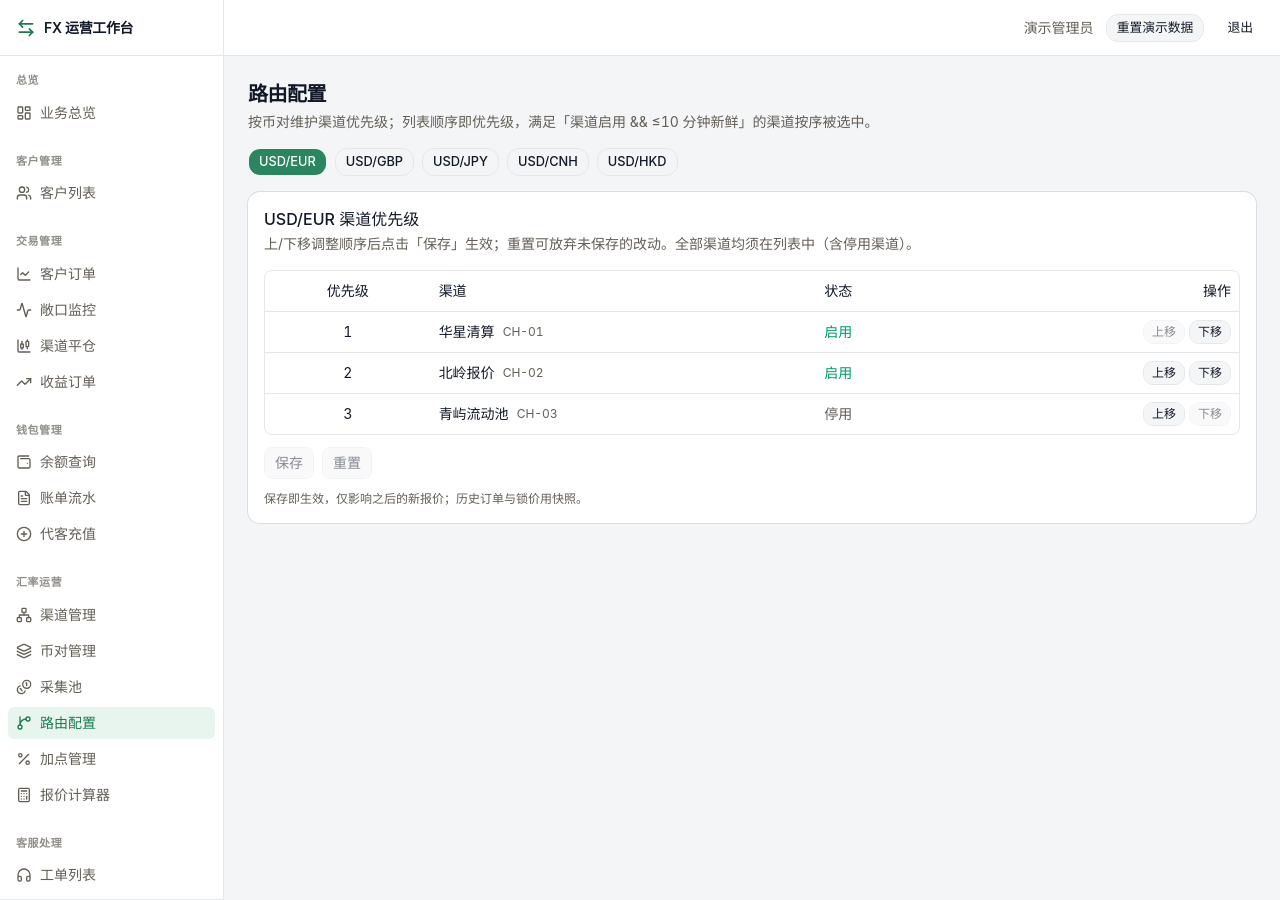
运营-汇率运营-路由配置 › USD/JPY 初始顺序 [北岭报价, 华星清算, 青屿流动池]，与 store.routing 一致且无未保存标记
What coordinates should you click on to do the following:
click the button "USD/JPY"
I would click on:
 (461, 162)
Its box is [422,148,499,176].
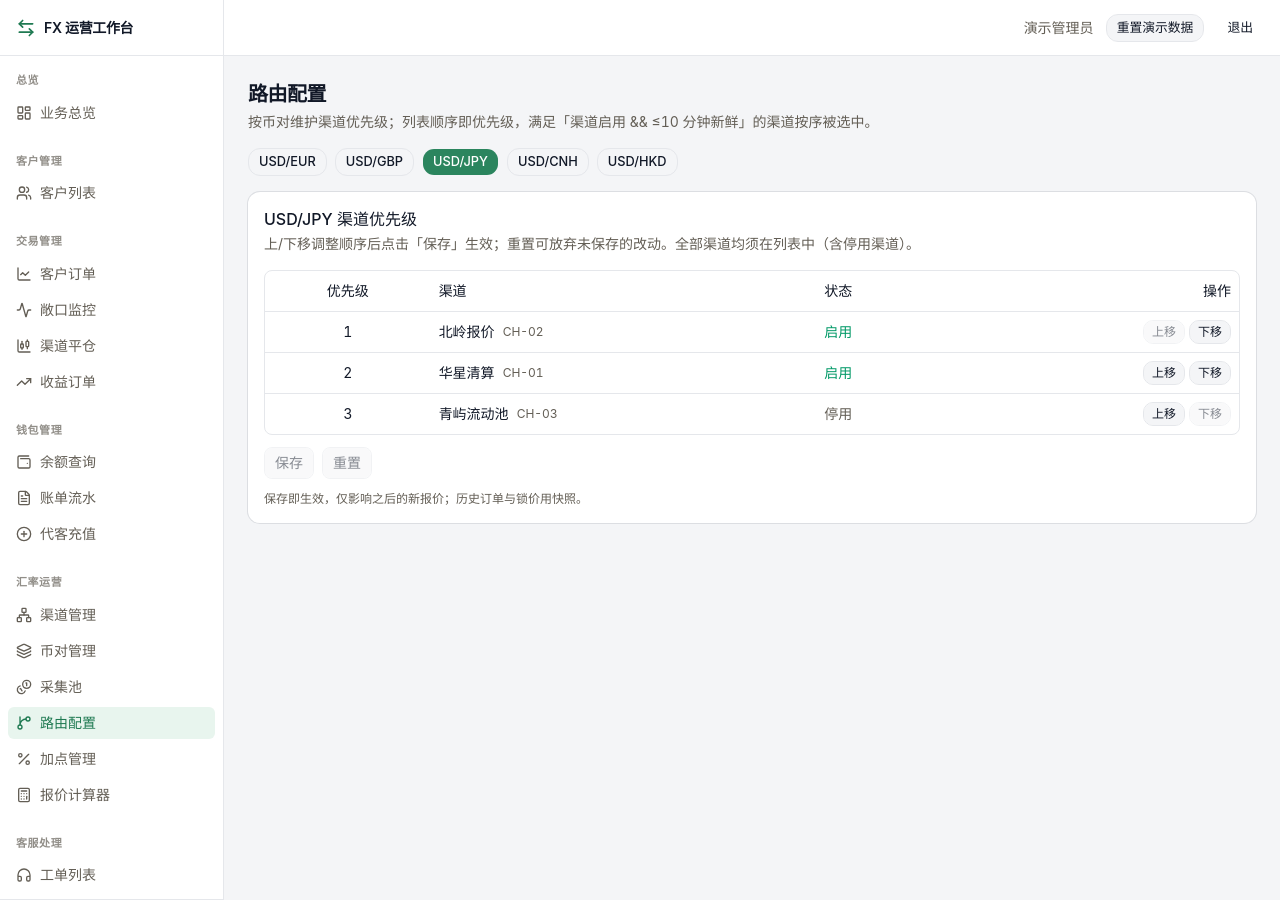
Expected: the button "保存" is disabled, [264,446,314,478]
Now the row "1 北岭报价 CH-02 启用 上移 下移" is shown, box [265,311,1239,352]
